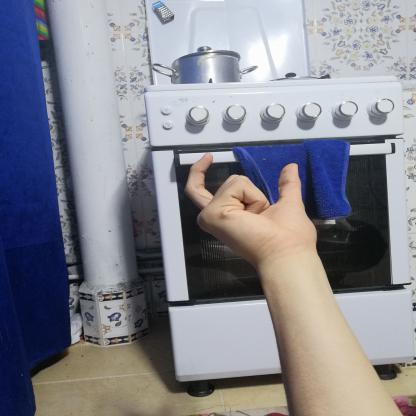NOON: (166, 145, 331, 275)
